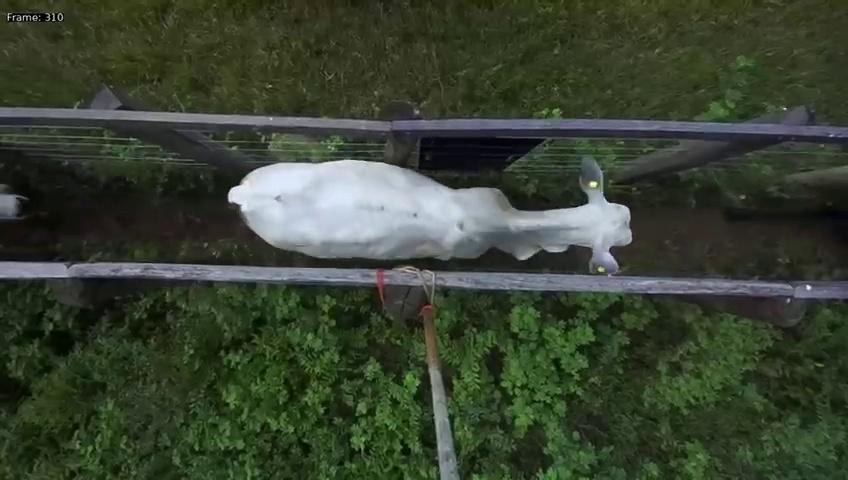cattle: (222, 147, 635, 277)
